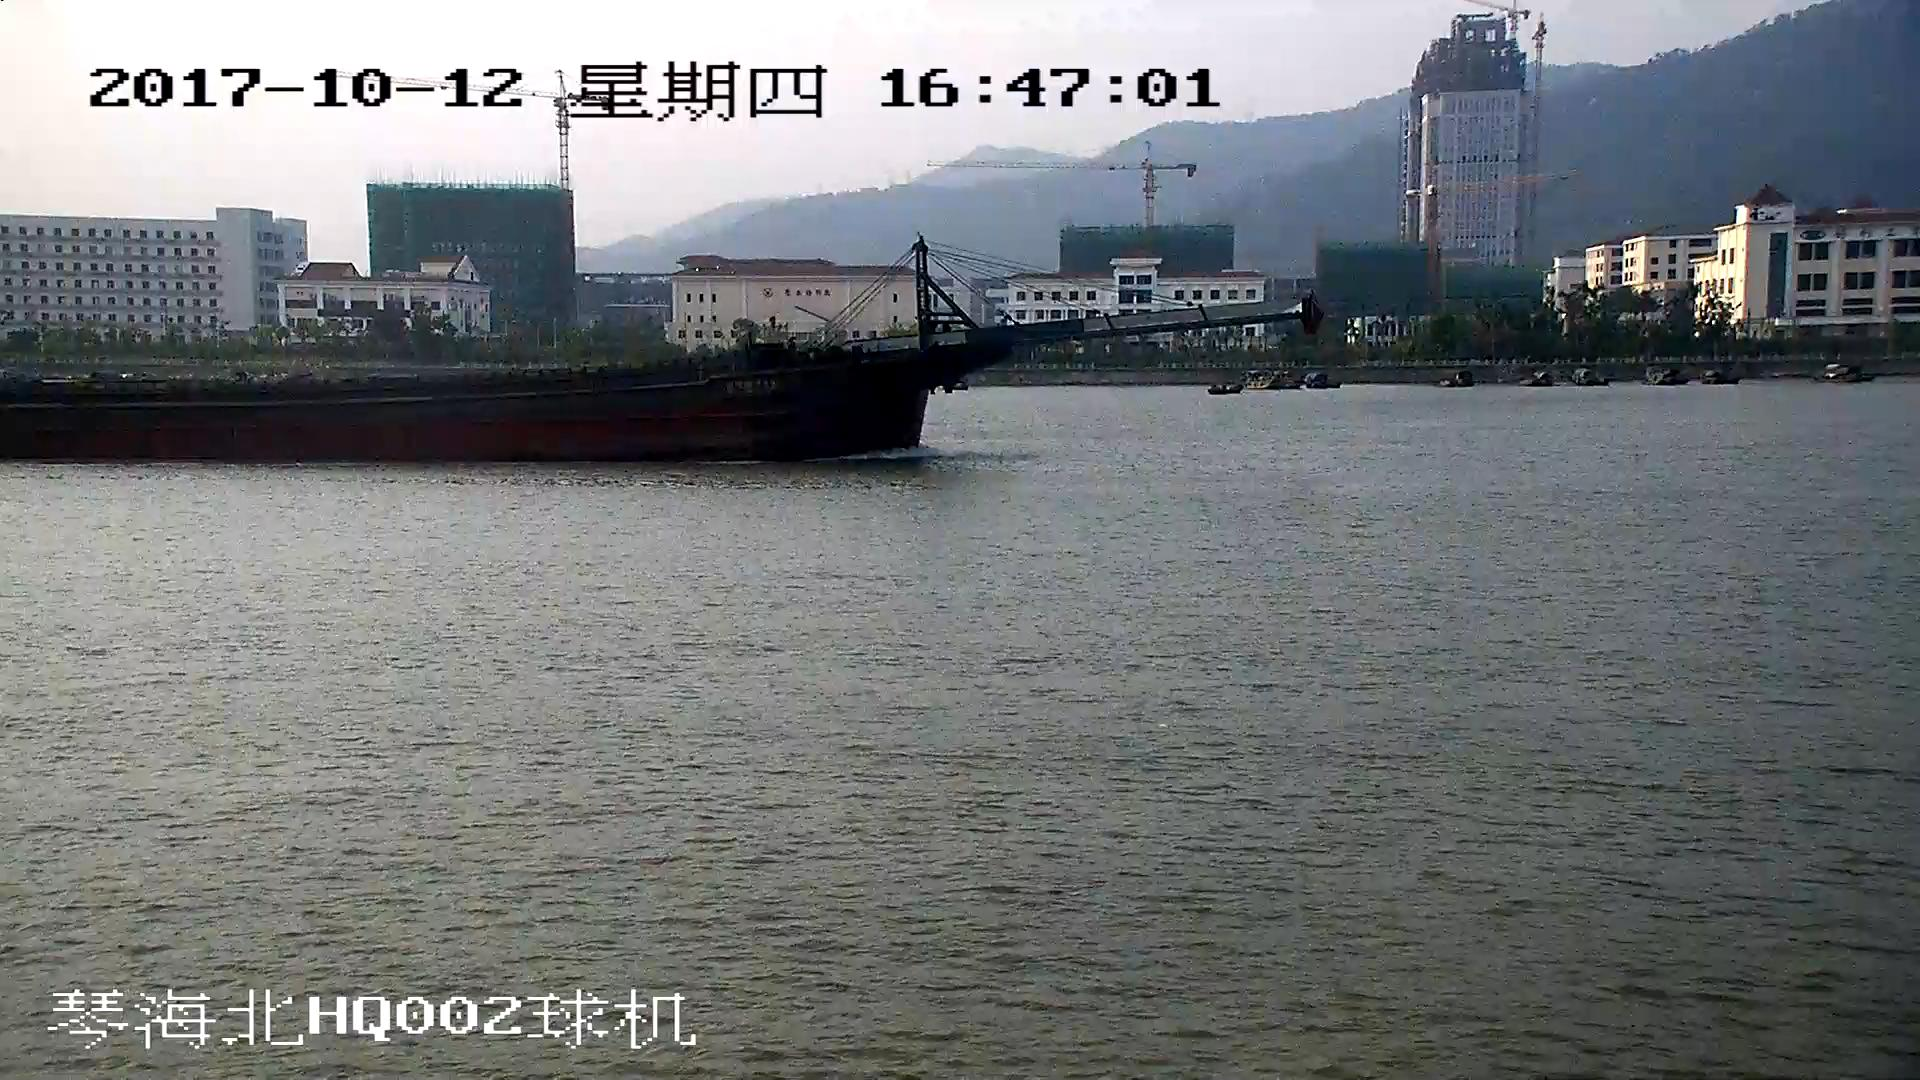bulk cargo carrier: (1, 240, 1309, 455)
